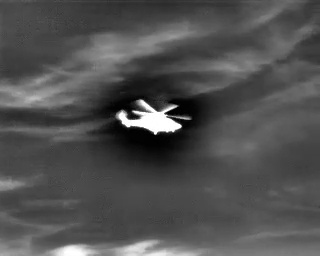HELICOPTER: (112, 93, 196, 141)
